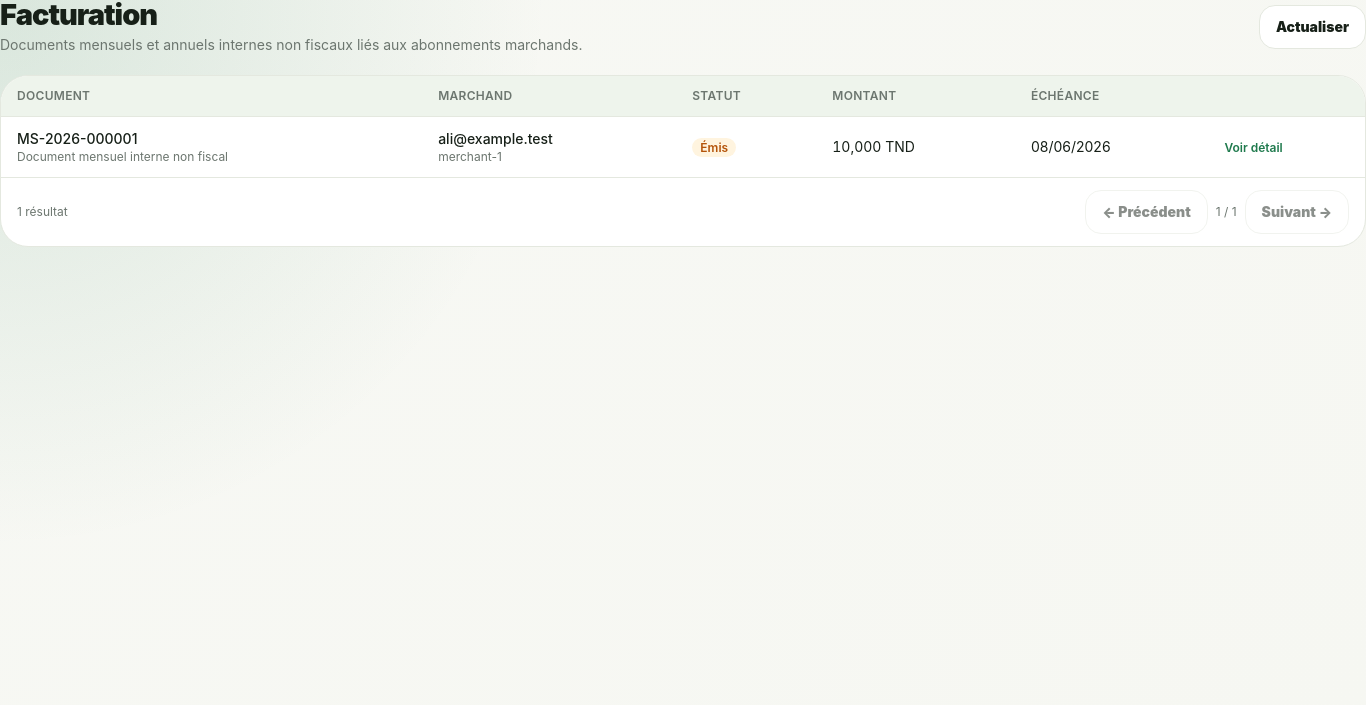
Test: AdminBillingDocumentsPage › does not audit WhatsApp contact when popup cannot be opened synchronously
Click the button with aria-label "Voir le détail document" at coordinates (1254, 148), box [1224,140,1283,156]
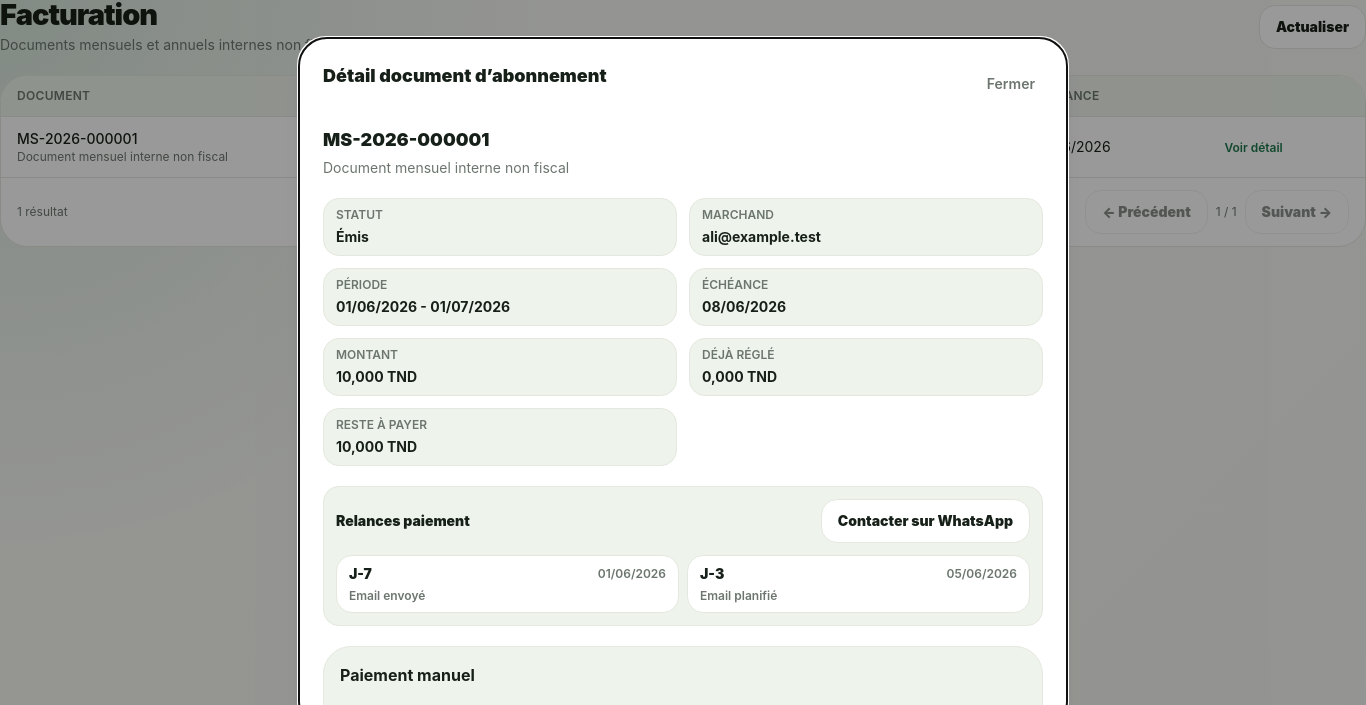
Click the button "Contacter sur WhatsApp" at coordinates (925, 521), box [821,499,1030,543]
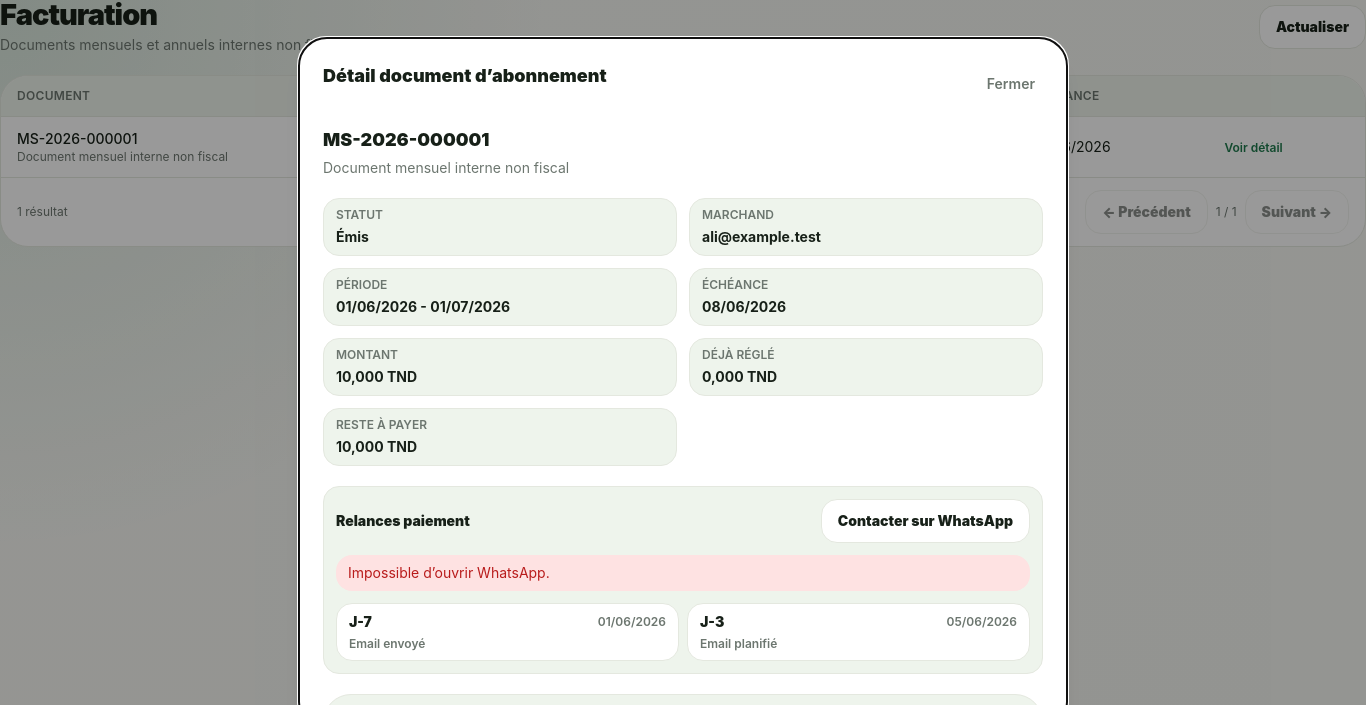
Check: the text "Impossible d’ouvrir WhatsApp." is shown, box [336,555,1030,591]
